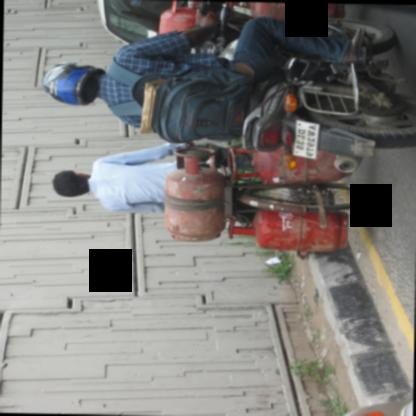backpack: (105, 55, 253, 142)
